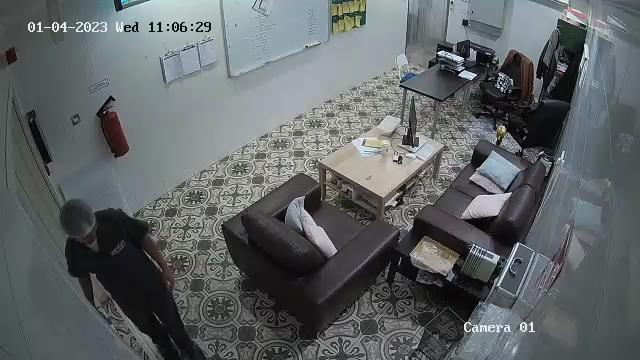no_apron: (76, 209, 166, 318)
